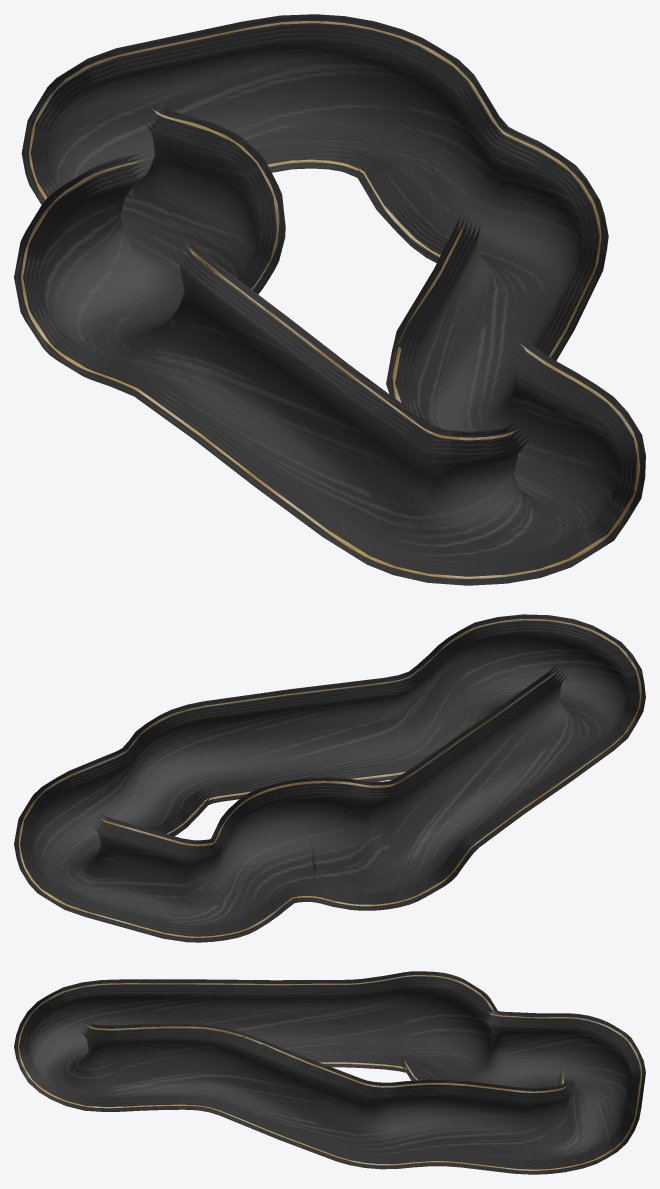
File: Skybox.gltf
3 renders of one model, top to bottom at view 1: azimuth 30°, elevation 25°; view 2: azimuth 150°, elevation 25°; view 3: azimuth 270°, elevation 25°, orthographic. The views are drawn at different scales.
Visible parts, largest first — view 1: SkyboxShells, SkyboxMist, SkyboxBase; view 2: SkyboxShells, SkyboxMist, SkyboxBase; view 3: SkyboxShells, SkyboxMist, SkyboxBase.
Boxes of the visible parts, bbox=[...] form: SkyboxShells: bbox=[14, 14, 645, 585]; SkyboxMist: bbox=[23, 23, 636, 576]; SkyboxBase: bbox=[21, 21, 640, 578]; SkyboxShells: bbox=[14, 614, 645, 942]; SkyboxMist: bbox=[20, 620, 639, 936]; SkyboxBase: bbox=[18, 619, 641, 937]; SkyboxShells: bbox=[14, 971, 645, 1174]; SkyboxMist: bbox=[19, 976, 640, 1169]; SkyboxBase: bbox=[18, 975, 641, 1170].
Size of the model in its own units: 349 by 109 by 624.
2 materials, 2 textured.
